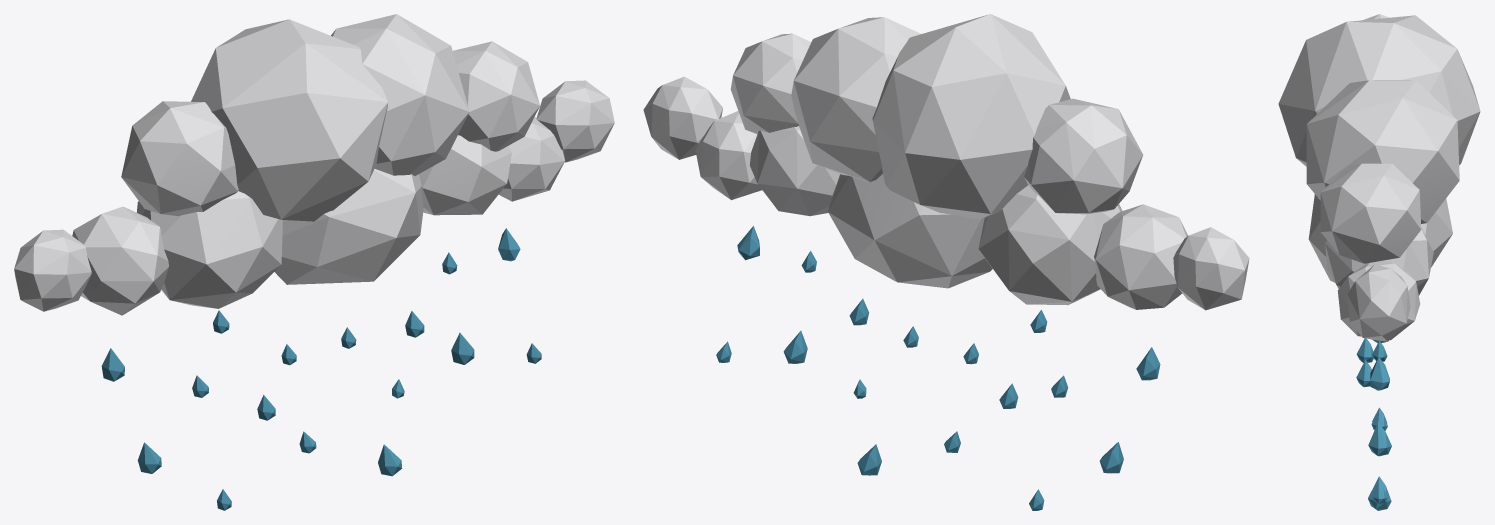
Rendered from stylize_cloud_14.fbx.
The picture shows the model from 3 angles, left to right: view 1: azimuth 30°, elevation 25°; view 2: azimuth 150°, elevation 25°; view 3: azimuth 270°, elevation 25°; orthographic projection. The views are drawn at different scales.
Parts seen in each view (by area): view 1: cloud_94; view 2: cloud_94; view 3: cloud_94.
Part boxes in pixels (left/top/right/bottom): cloud_94: left=14, top=14, right=614, bottom=510; cloud_94: left=643, top=14, right=1249, bottom=510; cloud_94: left=1278, top=14, right=1480, bottom=510.
Size of the model in its own units: 657 by 502 by 207.
